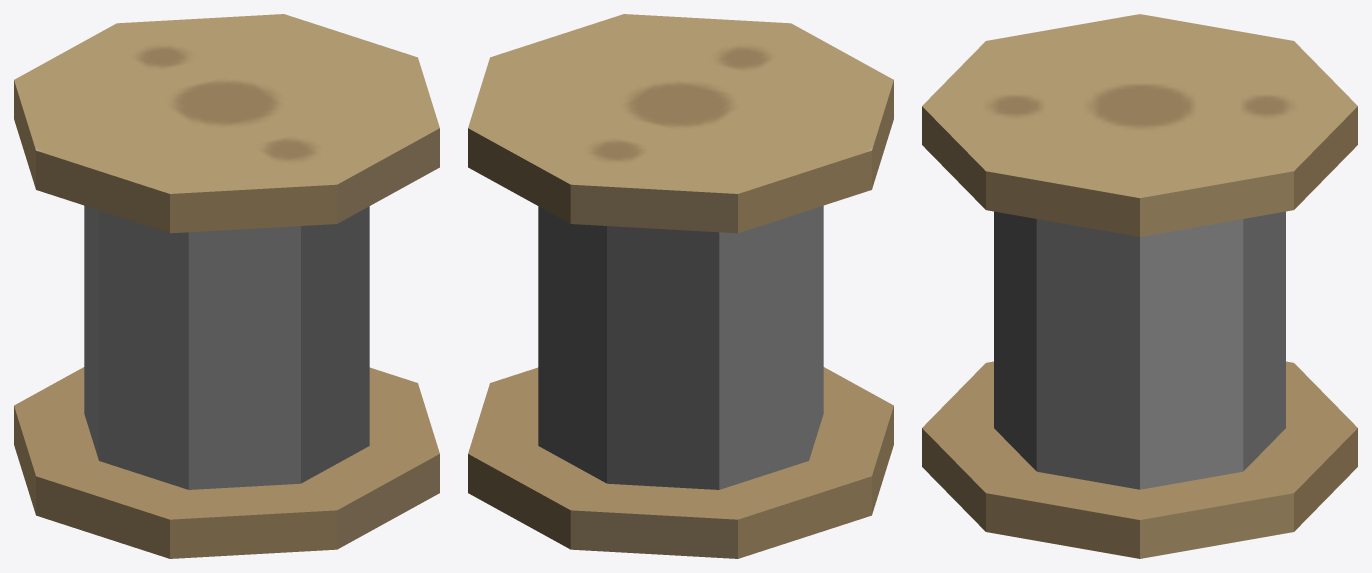
Rendered from SM_Prop_Spool_02.fbx.
3 views of the same model, side by side, from view 1: azimuth 30°, elevation 25°; view 2: azimuth 150°, elevation 25°; view 3: azimuth 270°, elevation 25° (orthographic).
Visible parts, largest first — view 1: SM_Prop_Spool_02; view 2: SM_Prop_Spool_02; view 3: SM_Prop_Spool_02.
Part boxes in pixels (box(x1,y1,x2,y2)): SM_Prop_Spool_02: box(14, 14, 439, 558); SM_Prop_Spool_02: box(468, 14, 893, 558); SM_Prop_Spool_02: box(922, 14, 1357, 558).
Size of the model in its own units: 2.32 by 2.12 by 2.32.
